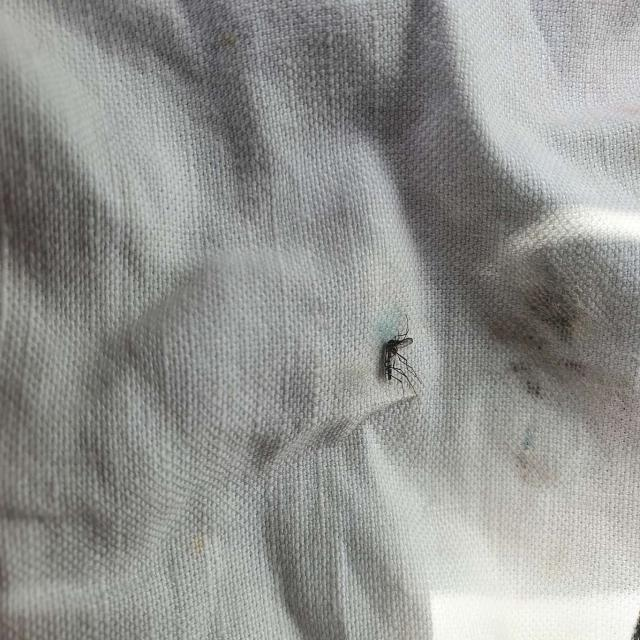albopictus: (369, 308, 426, 418)
